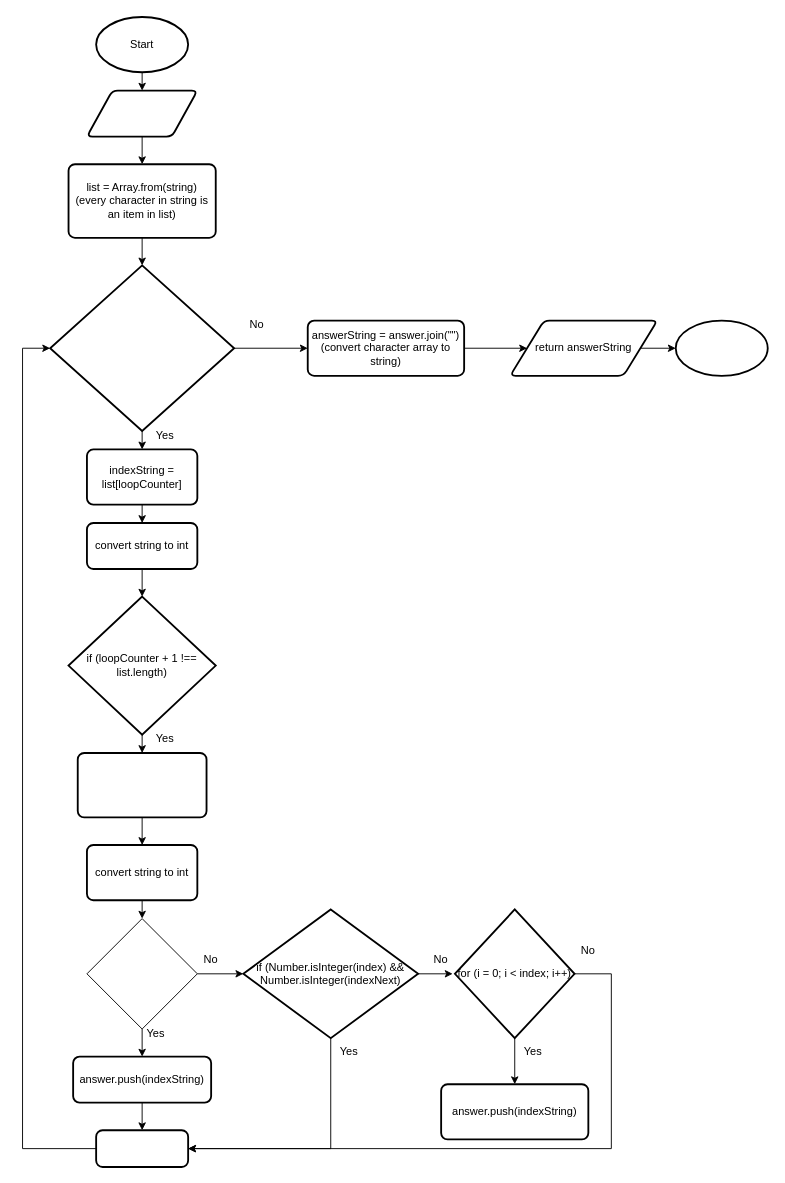
Some shapes in this 785 by 1183 pixel diagram are drawn without their labels. Each missing label, with the box of its shape:
continue: (95, 1129, 189, 1167)
for (loopCounter = 0; loopCounter < list.length; loopCounter++): (49, 264, 235, 431)
get string: (86, 89, 198, 137)
if (isNaN(index)): (86, 918, 197, 1029)
indexNextString = list[loopCounter + 1]: (76, 752, 207, 818)
Stop: (674, 319, 768, 376)
